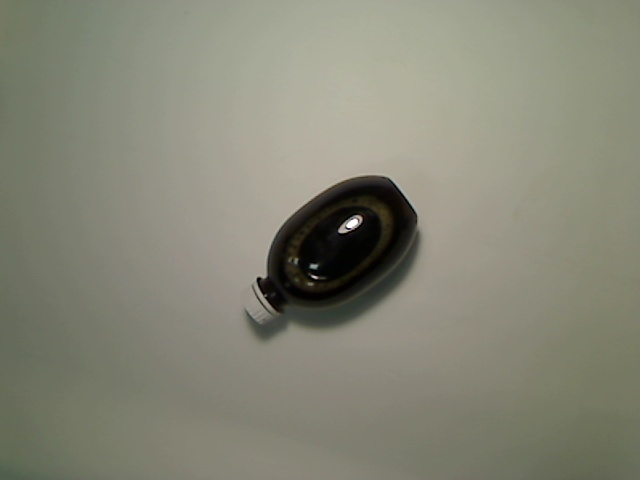plast_bottle: (240, 171, 422, 329)
